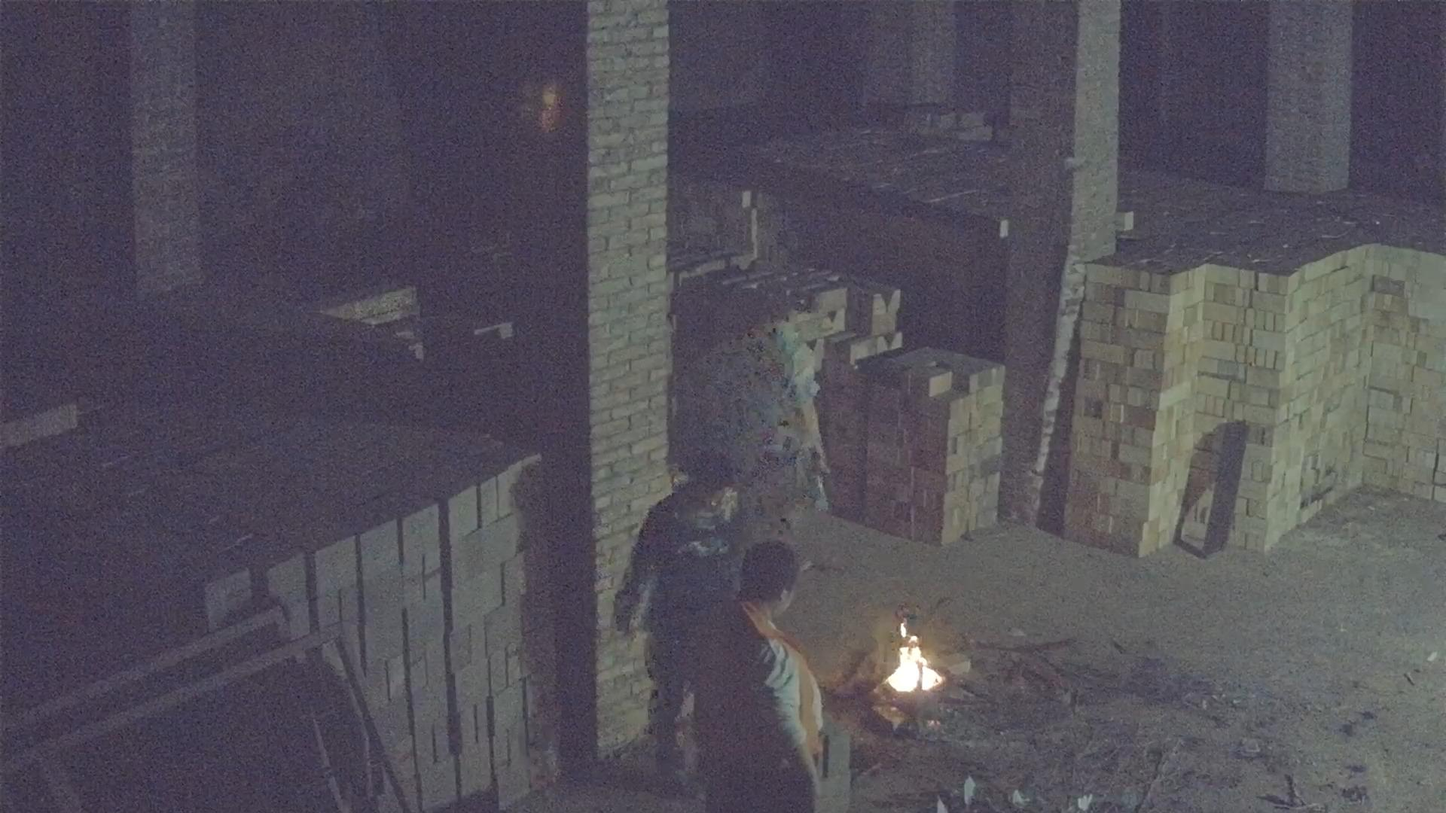fire: (886, 623, 942, 693)
